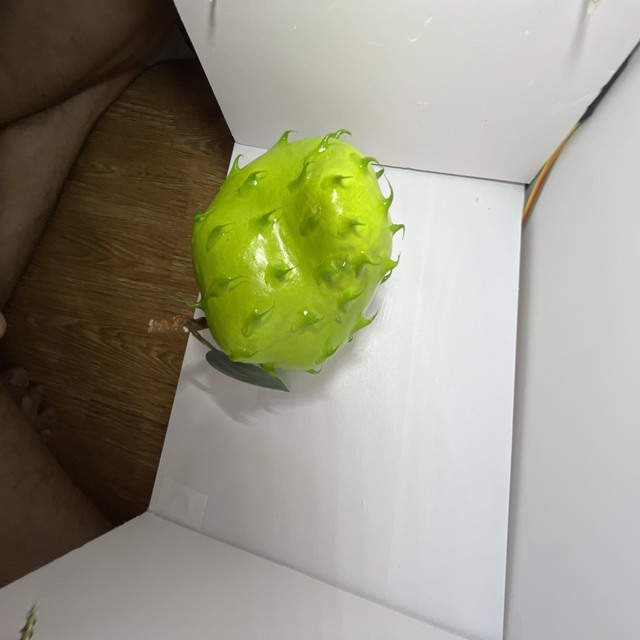Man cau: (184, 120, 411, 388)
